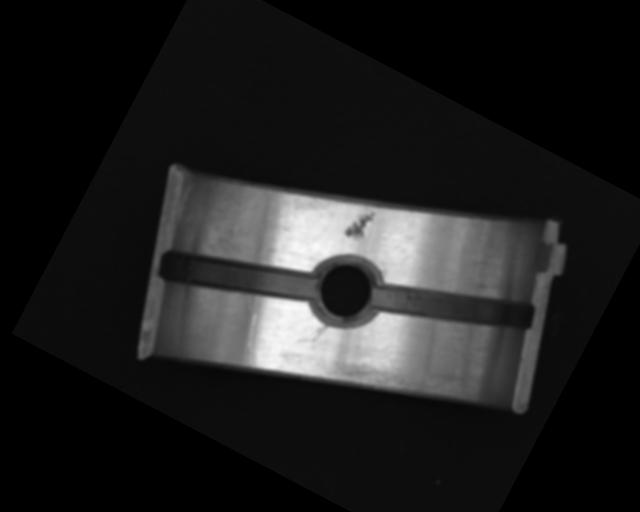bruise: (342, 203, 377, 244)
gap: (370, 238, 537, 374), (155, 212, 320, 344)
hole: (296, 246, 390, 341)
nick: (229, 311, 278, 370), (309, 319, 330, 346)
scratch: (328, 331, 467, 437)
